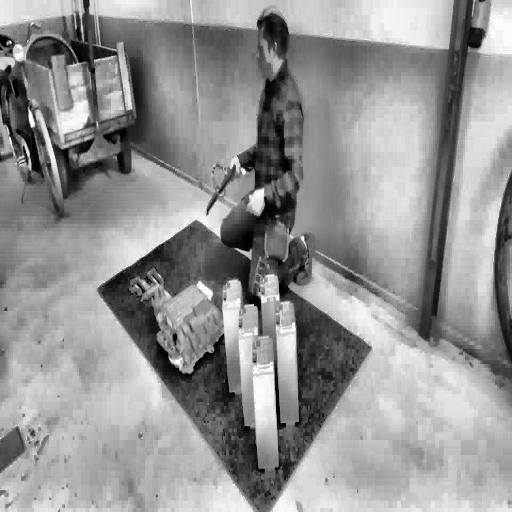battery_module: (252, 335, 279, 471), (275, 301, 299, 424), (238, 305, 260, 428), (223, 281, 243, 393), (260, 275, 280, 303)
bms_unit: (157, 280, 226, 375)
busbar: (123, 265, 166, 311)
high_volt_cable: (206, 154, 255, 209)
